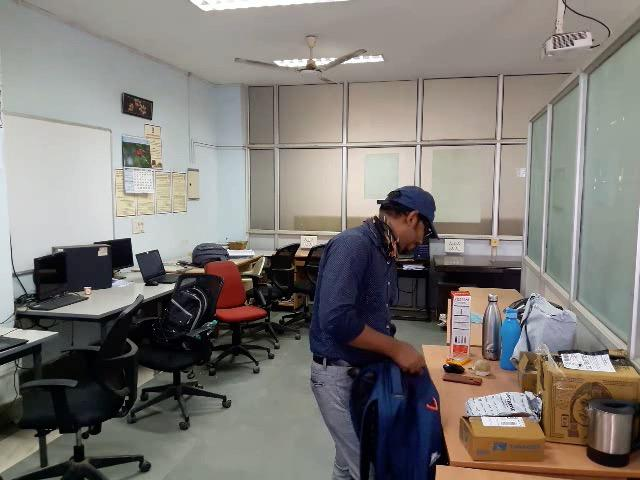shoplifting: (263, 269, 482, 480)
